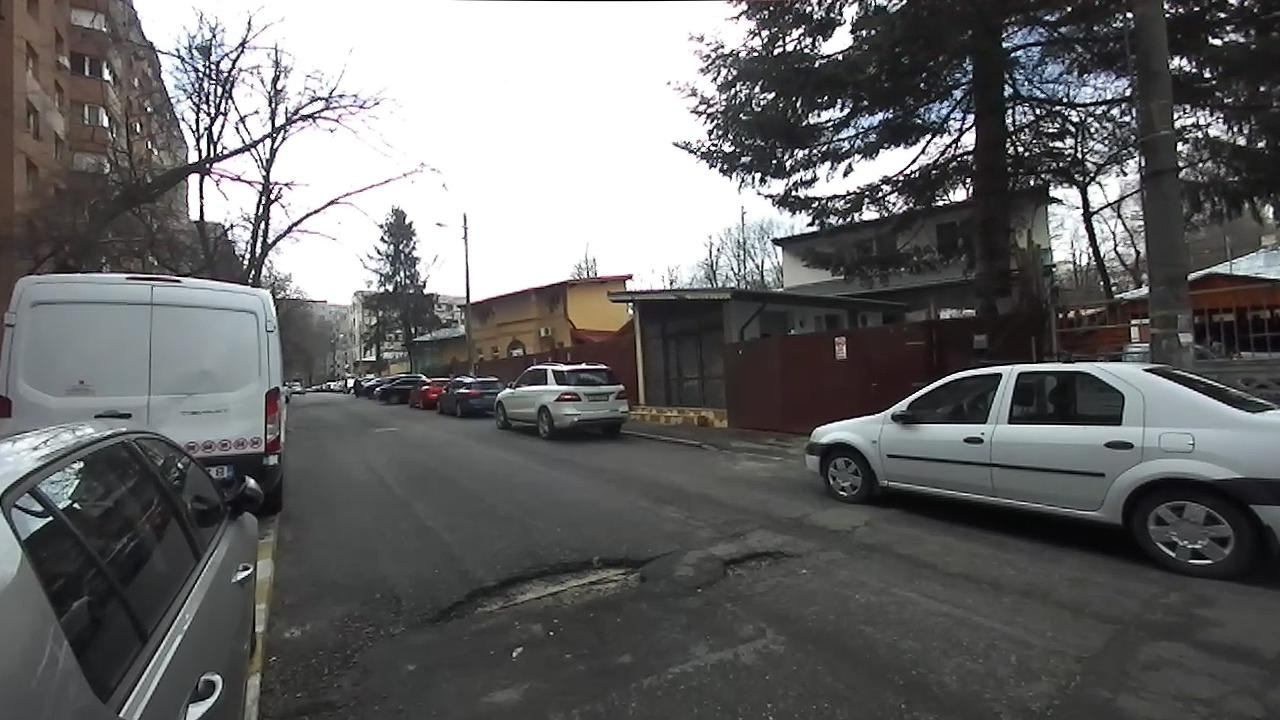pothole: (418, 552, 658, 638), (704, 545, 804, 586)
